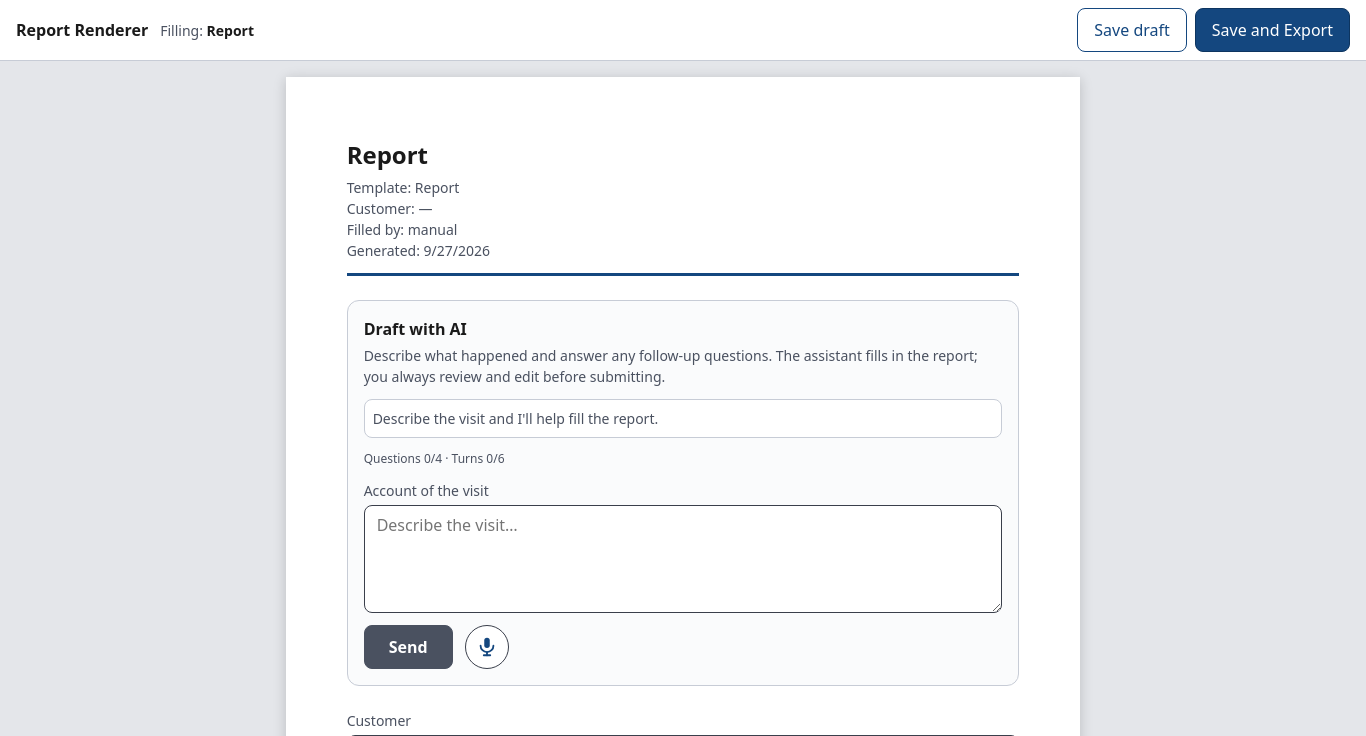
Test: Save draft › surfaces a failed save instead of failing silently
Click the button "Save draft". click: (1132, 30)
box: [1077,8,1187,52]
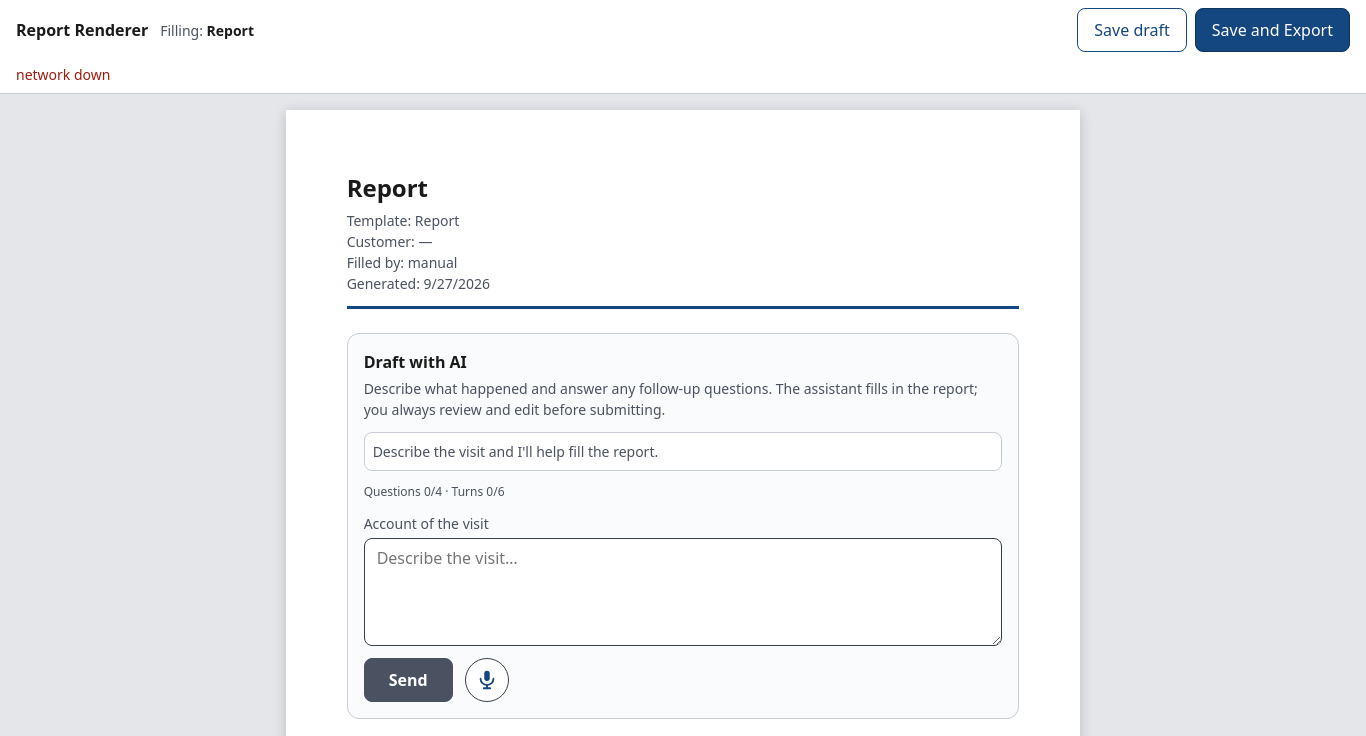
expect the message "network down" is shown: met, box [16,65,110,84]
